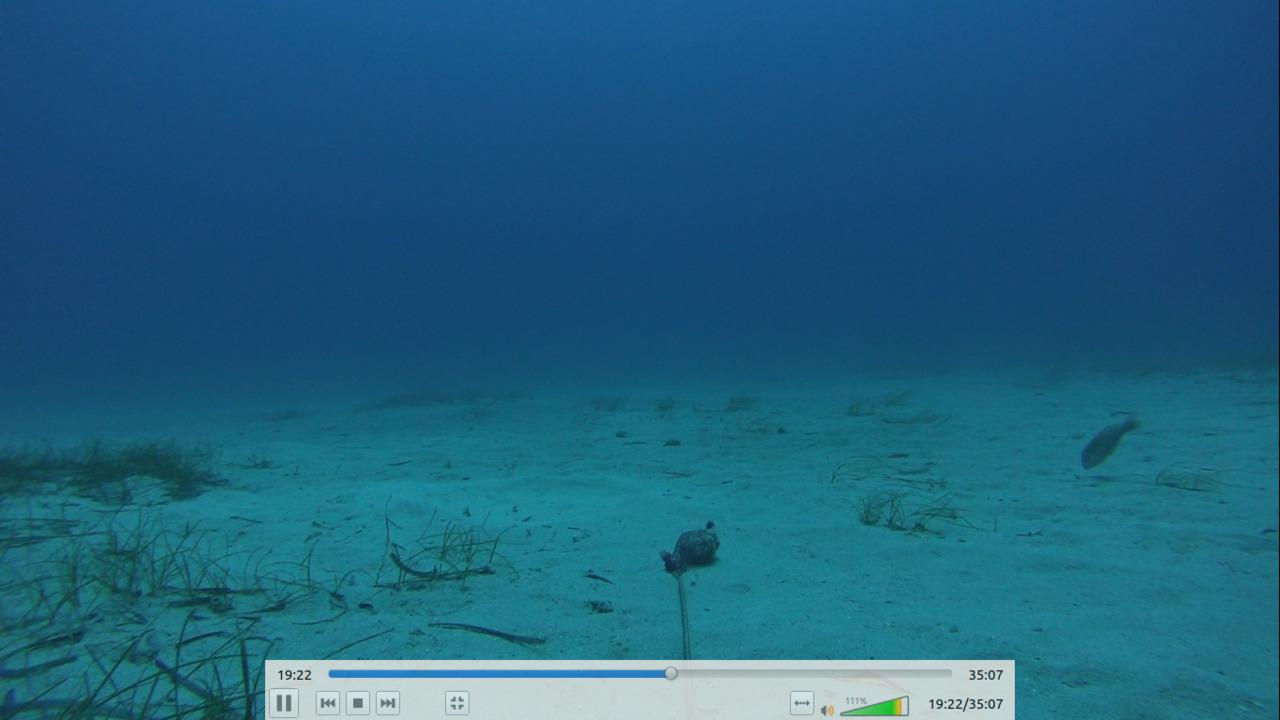raor: (1076, 412, 1139, 475)
